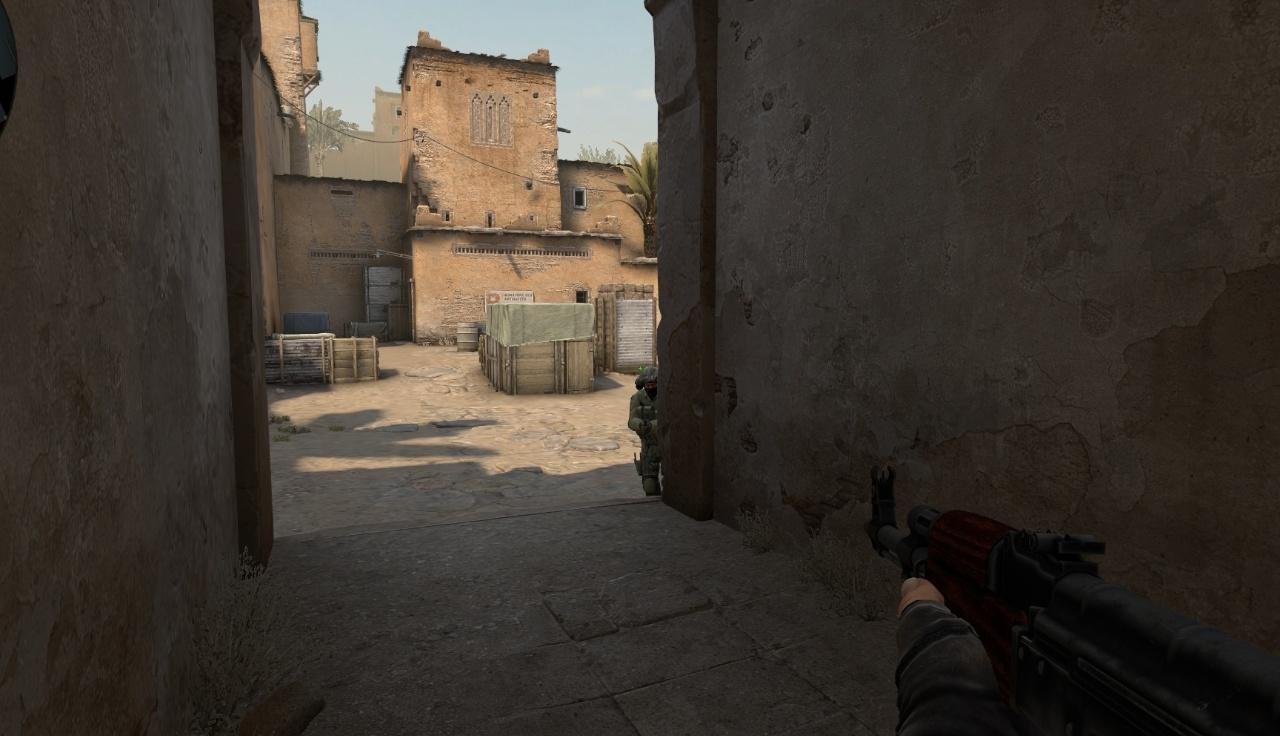ct: (633, 365, 662, 495)
cthead: (636, 366, 659, 399)
rifle: (860, 464, 1280, 736)
